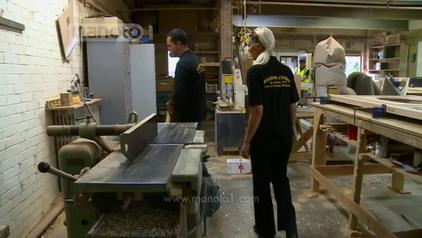sit: (310, 37, 346, 99)
stay: (158, 27, 204, 144)
